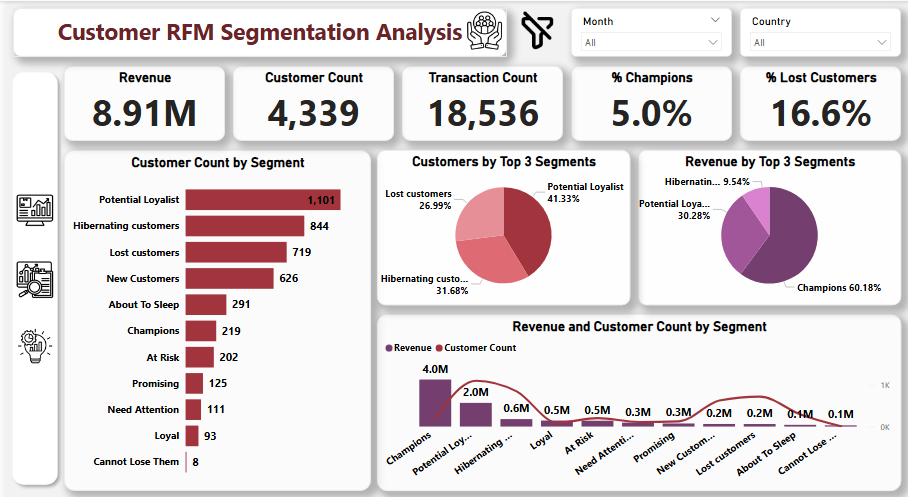

Layout of this report page (visuals, bound fields, positions):
{"tool":"powerbi","page":{"name":"Overview","canvas":[1280,720],"ordinal":0},"visuals":[{"type":"shape","box":[0,92.1,82.2,602.4],"z":0,"group":"g1"},{"type":"card","title":"% Champions","fields":{"Values":["All_Measures.% Champions"]},"box":[800.8,92.1,228.2,106.3],"z":0},{"type":"card","title":"% Lost Customers","fields":{"Values":["All_Measures.% Lost"]},"box":[1040.3,92.1,228.2,106.3],"z":1000},{"type":"clusteredBarChart","fields":{"Y":["All_Measures.Customer Count"],"Category":["Segments.Segment"]},"box":[81.5,211.7,434.8,483.4],"z":2000},{"type":"card","title":"Revenue","fields":{"Values":["All_Measures.Sales"]},"box":[82.2,92.1,228.2,106.3],"z":3000},{"type":"textbox","box":[9.9,9.9,700.2,69.4],"z":4000,"group":"g2"},{"type":"card","title":"Customer Count","fields":{"Values":["All_Measures.Customer Count"]},"box":[321.7,92.1,228.2,106.3],"z":4000},{"type":"card","title":"Transaction Count","fields":{"Values":["All_Measures.Transaction Count"]},"box":[561.3,92.1,228.2,106.3],"z":5000},{"type":"lineStackedColumnComboChart","fields":{"Category":["Segments.Segment"],"Y":["All_Measures.Revenue"],"Y2":["All_Measures.Customer Count"]},"box":[525.8,443.6,742.7,250.9],"z":6000},{"type":"pieChart","title":"Revenue by Top 3 Segments","fields":{"Category":["Segments.Segment"],"Y":["All_Measures.Revenue"]},"box":[895.7,211.2,372.8,219.7],"z":7000},{"type":"pieChart","title":"Customers by Top 3 Segments","fields":{"Category":["Segments.Segment"],"Y":["All_Measures.Customer Count"]},"box":[525.8,211.2,358.6,219.7],"z":8000},{"type":"slicer","fields":{"Values":["Online_Retail.InvoiceDate.Variation.Date Hierarchy.Month"]},"box":[800.8,9.9,228.2,69.4],"z":9000},{"type":"slicer","fields":{"Values":["Online_Retail.Country"]},"box":[1040.3,9.9,228.2,69.4],"z":10000},{"type":"image","box":[716.5,10,72.9,70.1],"z":11000},{"type":"image","box":[9.9,256.5,62.4,80.8],"z":11000,"group":"g1"},{"type":"group","id":"g1","title":"Group 1","box":[0,92.1,82.2,602.4],"z":12000},{"type":"image","box":[9.9,360.6,62.4,69.4],"z":12000,"group":"g1"},{"type":"group","id":"g2","title":"Group 2","box":[9.9,9.9,700.2,69.4],"z":13000},{"type":"image","box":[10,453.3,62.9,71.5],"z":16000,"group":"g1"},{"type":"image","box":[646.3,9.9,63.8,63.8],"z":16002,"group":"g2"}]}

Visuals, with their boxes in screenshot pixels (x1, y1, x2, y2), scaled from the page's 1280x720 canvas onto the 908x497 screenshot:
shape: bbox=(0, 64, 58, 479)
"% Champions" card: bbox=(568, 64, 730, 137)
"% Lost Customers" card: bbox=(738, 64, 900, 137)
clusteredBarChart - All_Measures.Customer Count x Segments.Segment: bbox=(58, 146, 366, 480)
"Revenue" card: bbox=(58, 64, 220, 137)
textbox: bbox=(7, 7, 504, 55)
"Customer Count" card: bbox=(228, 64, 390, 137)
"Transaction Count" card: bbox=(398, 64, 560, 137)
lineStackedColumnComboChart - Segments.Segment x All_Measures.Revenue: bbox=(373, 306, 900, 479)
"Revenue by Top 3 Segments" pieChart: bbox=(635, 146, 900, 297)
"Customers by Top 3 Segments" pieChart: bbox=(373, 146, 627, 297)
slicer - Online_Retail.InvoiceDate.Variation.Date Hierarchy.Month: bbox=(568, 7, 730, 55)
slicer - Online_Retail.Country: bbox=(738, 7, 900, 55)
image: bbox=(508, 7, 560, 55)
image: bbox=(7, 177, 51, 233)
"Group 1" group: bbox=(0, 64, 58, 479)
image: bbox=(7, 249, 51, 297)
"Group 2" group: bbox=(7, 7, 504, 55)
image: bbox=(7, 313, 52, 362)
image: bbox=(458, 7, 504, 51)
